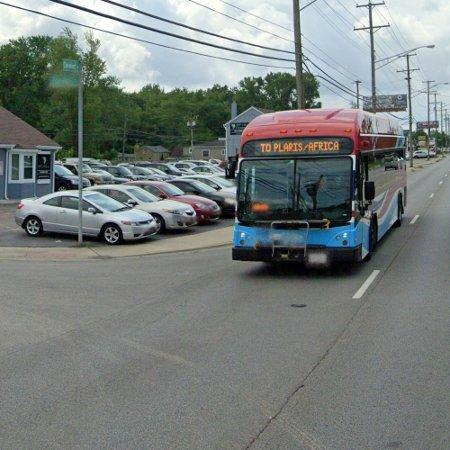buses: (233, 109, 408, 268)
